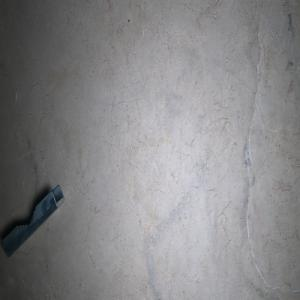ClampPart: (0, 183, 66, 258)
